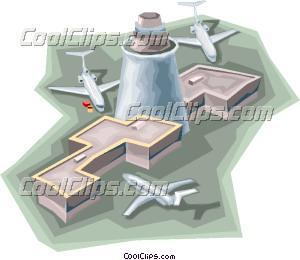aeroplane: (40, 45, 127, 118), (156, 1, 242, 67), (111, 168, 197, 217)
